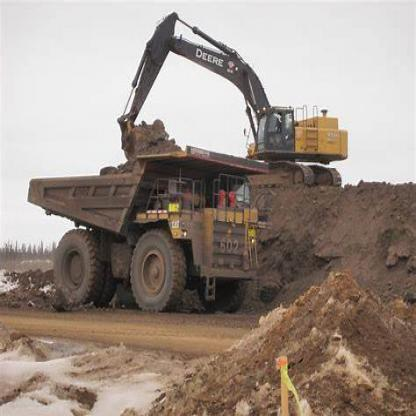dump_truck: (26, 147, 270, 314)
excavator: (121, 8, 356, 212)
